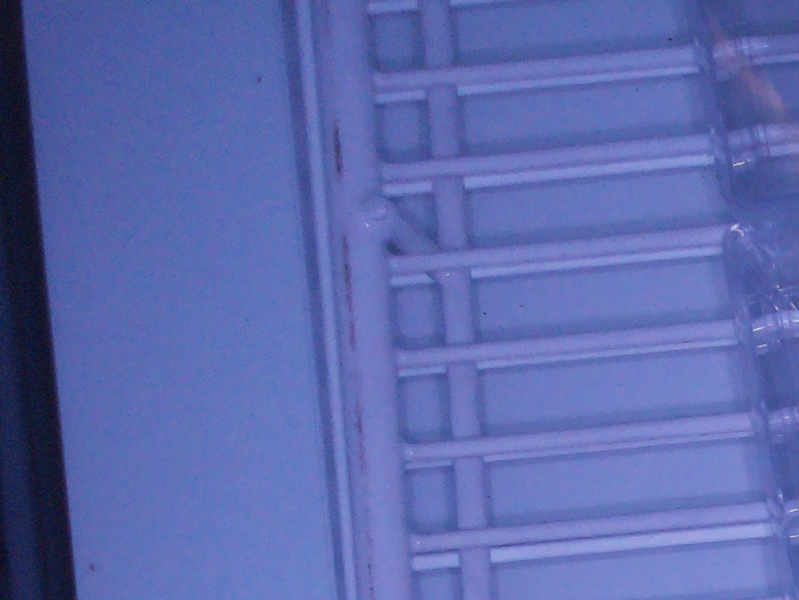plate: (686, 1, 799, 586)
